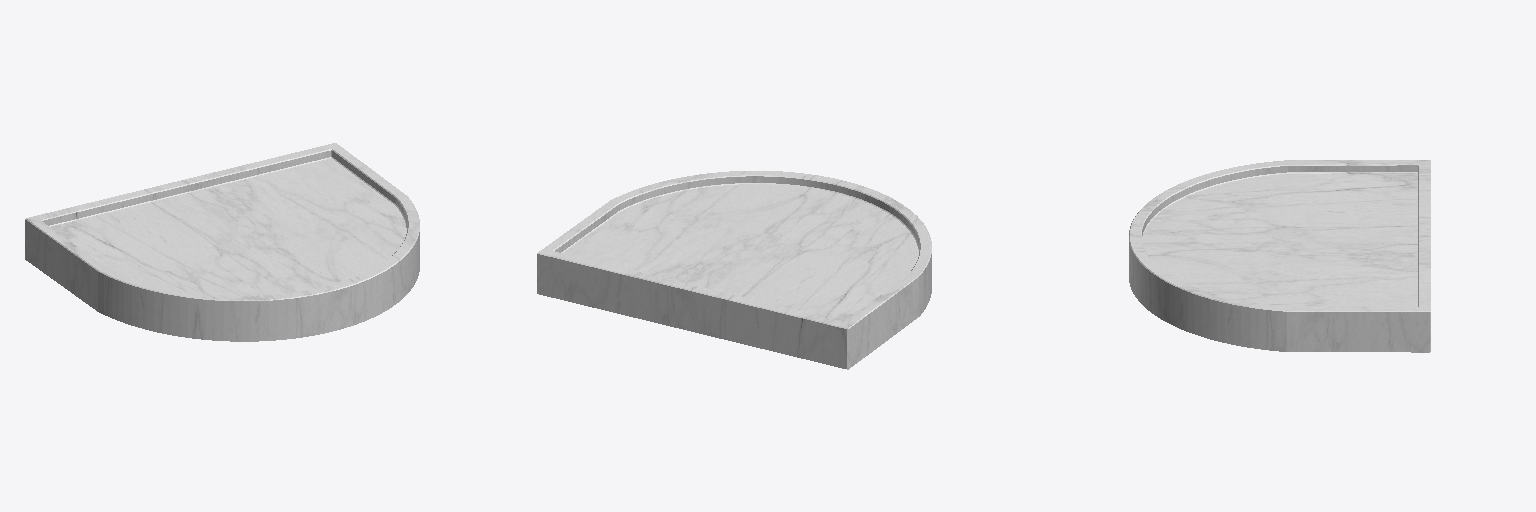
The picture shows the model from 3 angles: view 1: azimuth 30°, elevation 25°; view 2: azimuth 150°, elevation 25°; view 3: azimuth 270°, elevation 25°; orthographic projection.
Parts seen in each view (by area): view 1: Cylinder.019; view 2: Cylinder.019; view 3: Cylinder.019.
Part boxes in pixels (x1,y1,x2,y2): Cylinder.019: (25,143,419,341); Cylinder.019: (537,171,931,369); Cylinder.019: (1129,160,1430,352).
Size of the model in its own units: 0.7938 by 0.1 by 0.6673.
Materials: 1 (1 with a texture image).